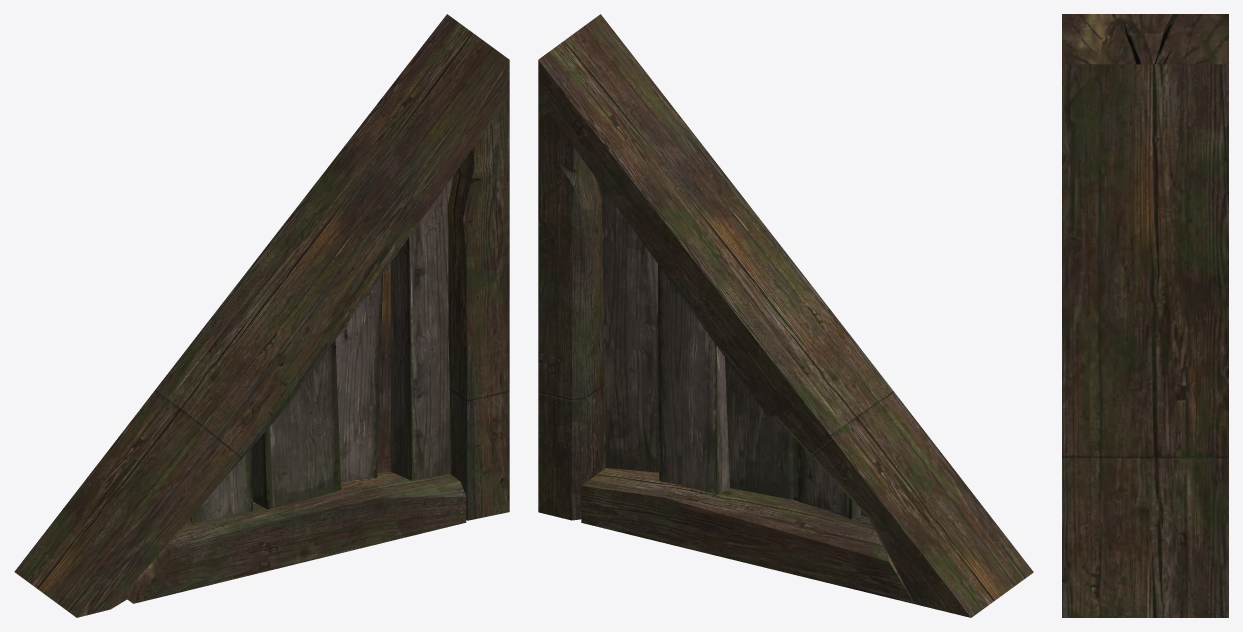
3 views of the same model, side by side, from view 1: azimuth 30°, elevation 25°; view 2: azimuth 150°, elevation 25°; view 3: azimuth 270°, elevation 25° (orthographic). The views are drawn at different scales.
Parts seen in each view (by area): view 1: SM_BB_T1_Wall_Slanted_Med_LOD0; view 2: SM_BB_T1_Wall_Slanted_Med_LOD0; view 3: SM_BB_T1_Wall_Slanted_Med_LOD0.
Part boxes in pixels (x1,y1,x2,y2): SM_BB_T1_Wall_Slanted_Med_LOD0: [14, 14, 509, 617]; SM_BB_T1_Wall_Slanted_Med_LOD0: [538, 14, 1033, 617]; SM_BB_T1_Wall_Slanted_Med_LOD0: [1062, 14, 1228, 617].
Size of the model in its own units: 1.5 by 1.5 by 0.375.
2 materials, 2 textured.
